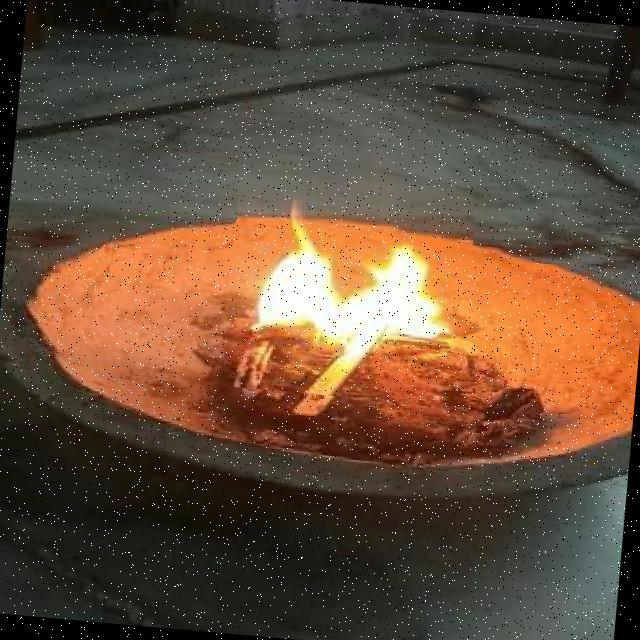fire: (221, 194, 475, 406)
